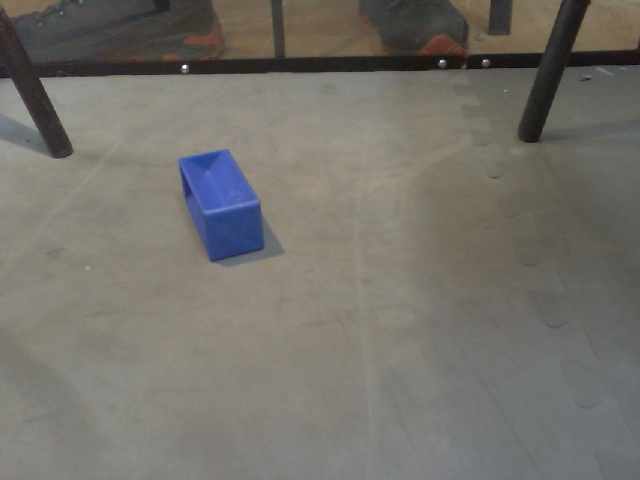BlueSample: (176, 147, 267, 262)
